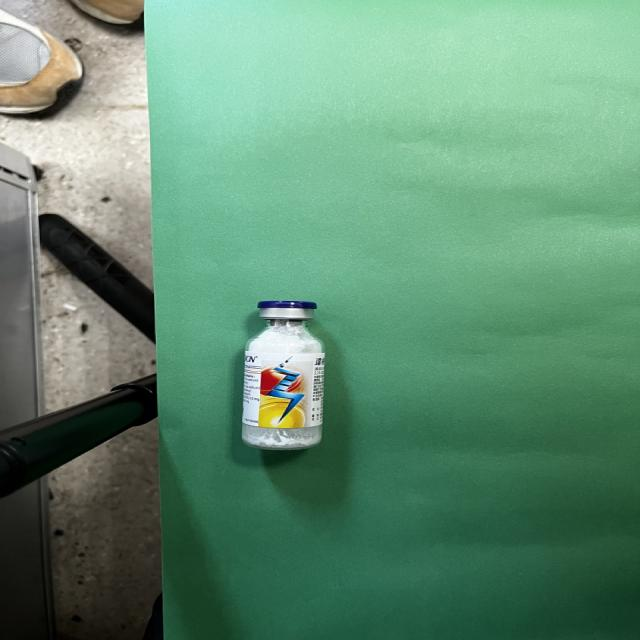Vials: (241, 301, 325, 449)
